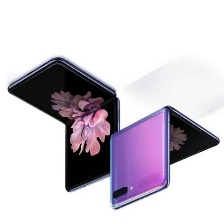phone: (6, 51, 125, 196), (106, 99, 223, 210)
